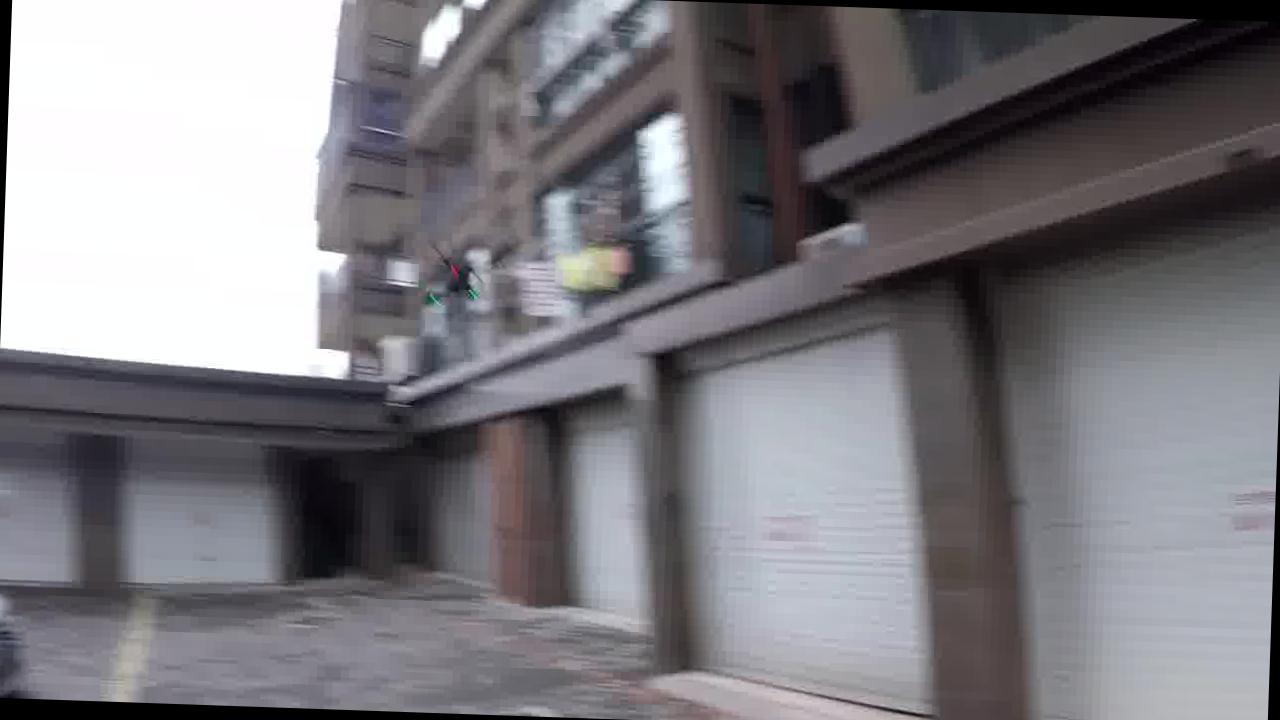drone: (403, 240, 522, 310)
